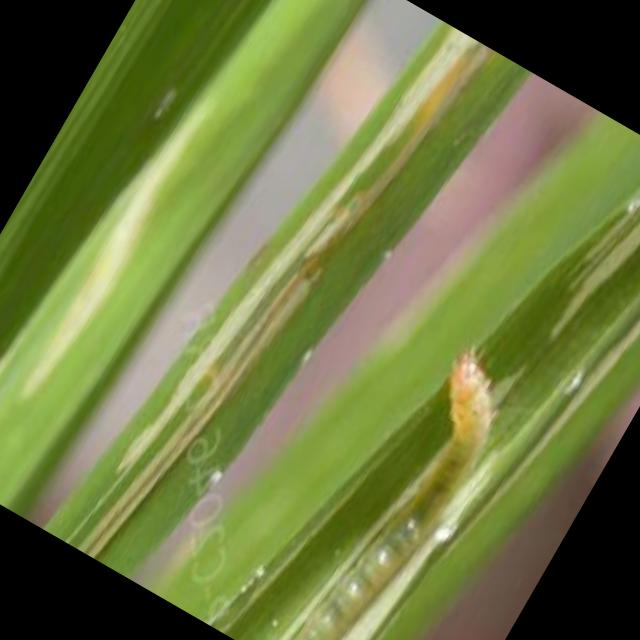leaf-folder: (258, 326, 554, 640)
